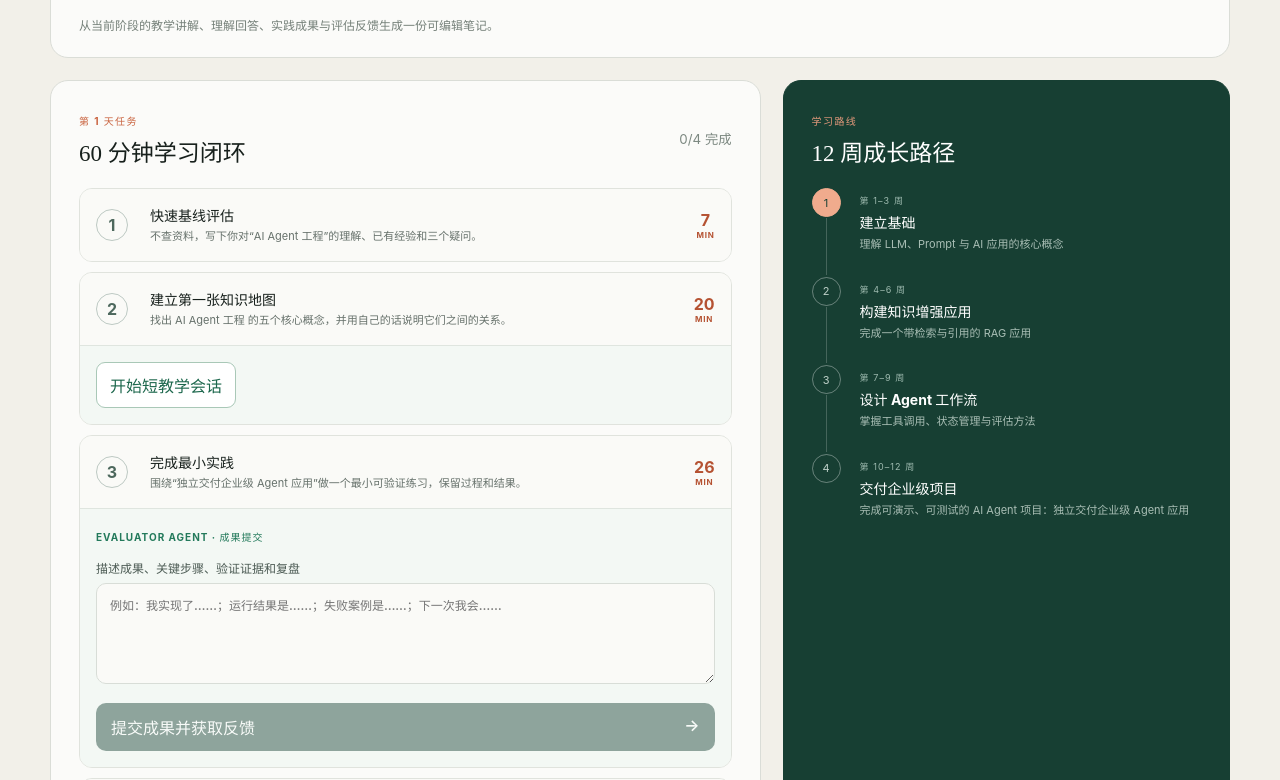
Test: learning data controls › settles an expired Agent session without exposing server details or clearing local learning data
This screenshot has width=1280, height=780.
(page scrolled)
Click the button "开始短教学会话". click: [166, 385]
box: left=96, top=362, right=236, bottom=408
(page scrolled)
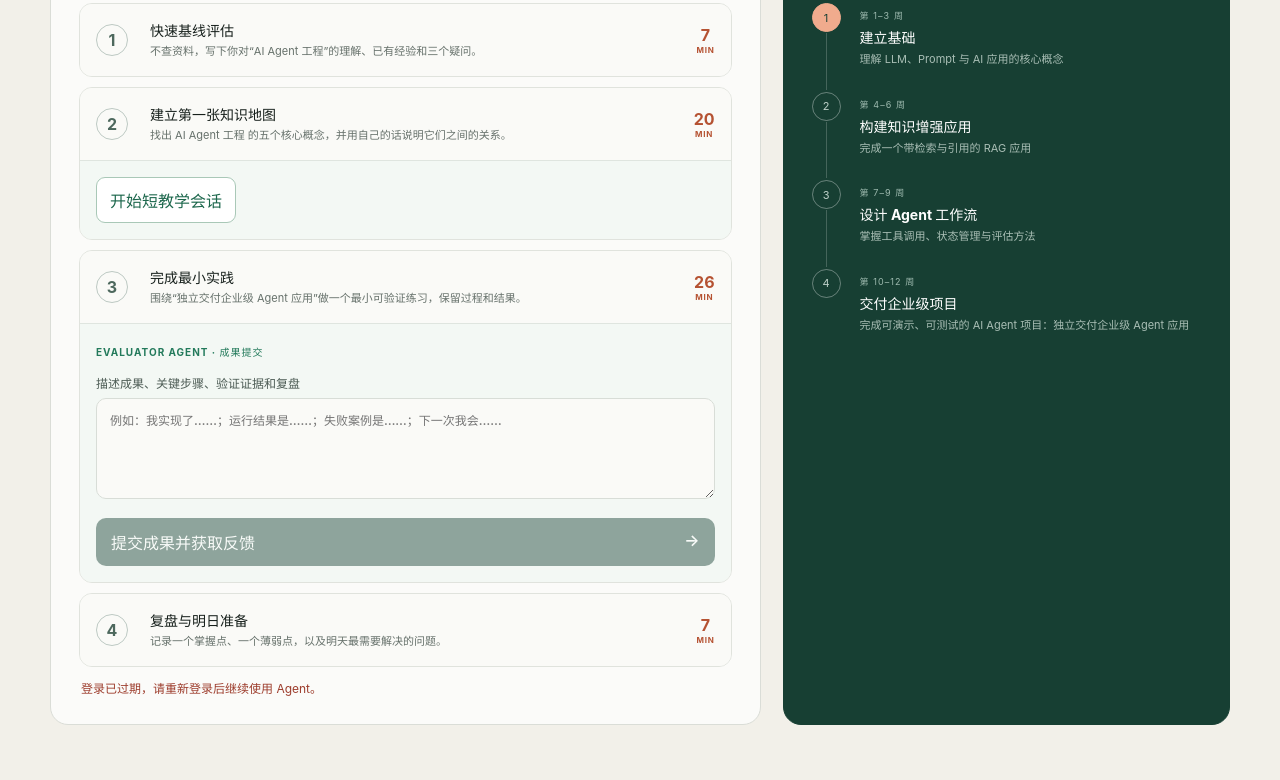
Expected: the message shows "登录已过期", left=81, top=681, right=322, bottom=696
